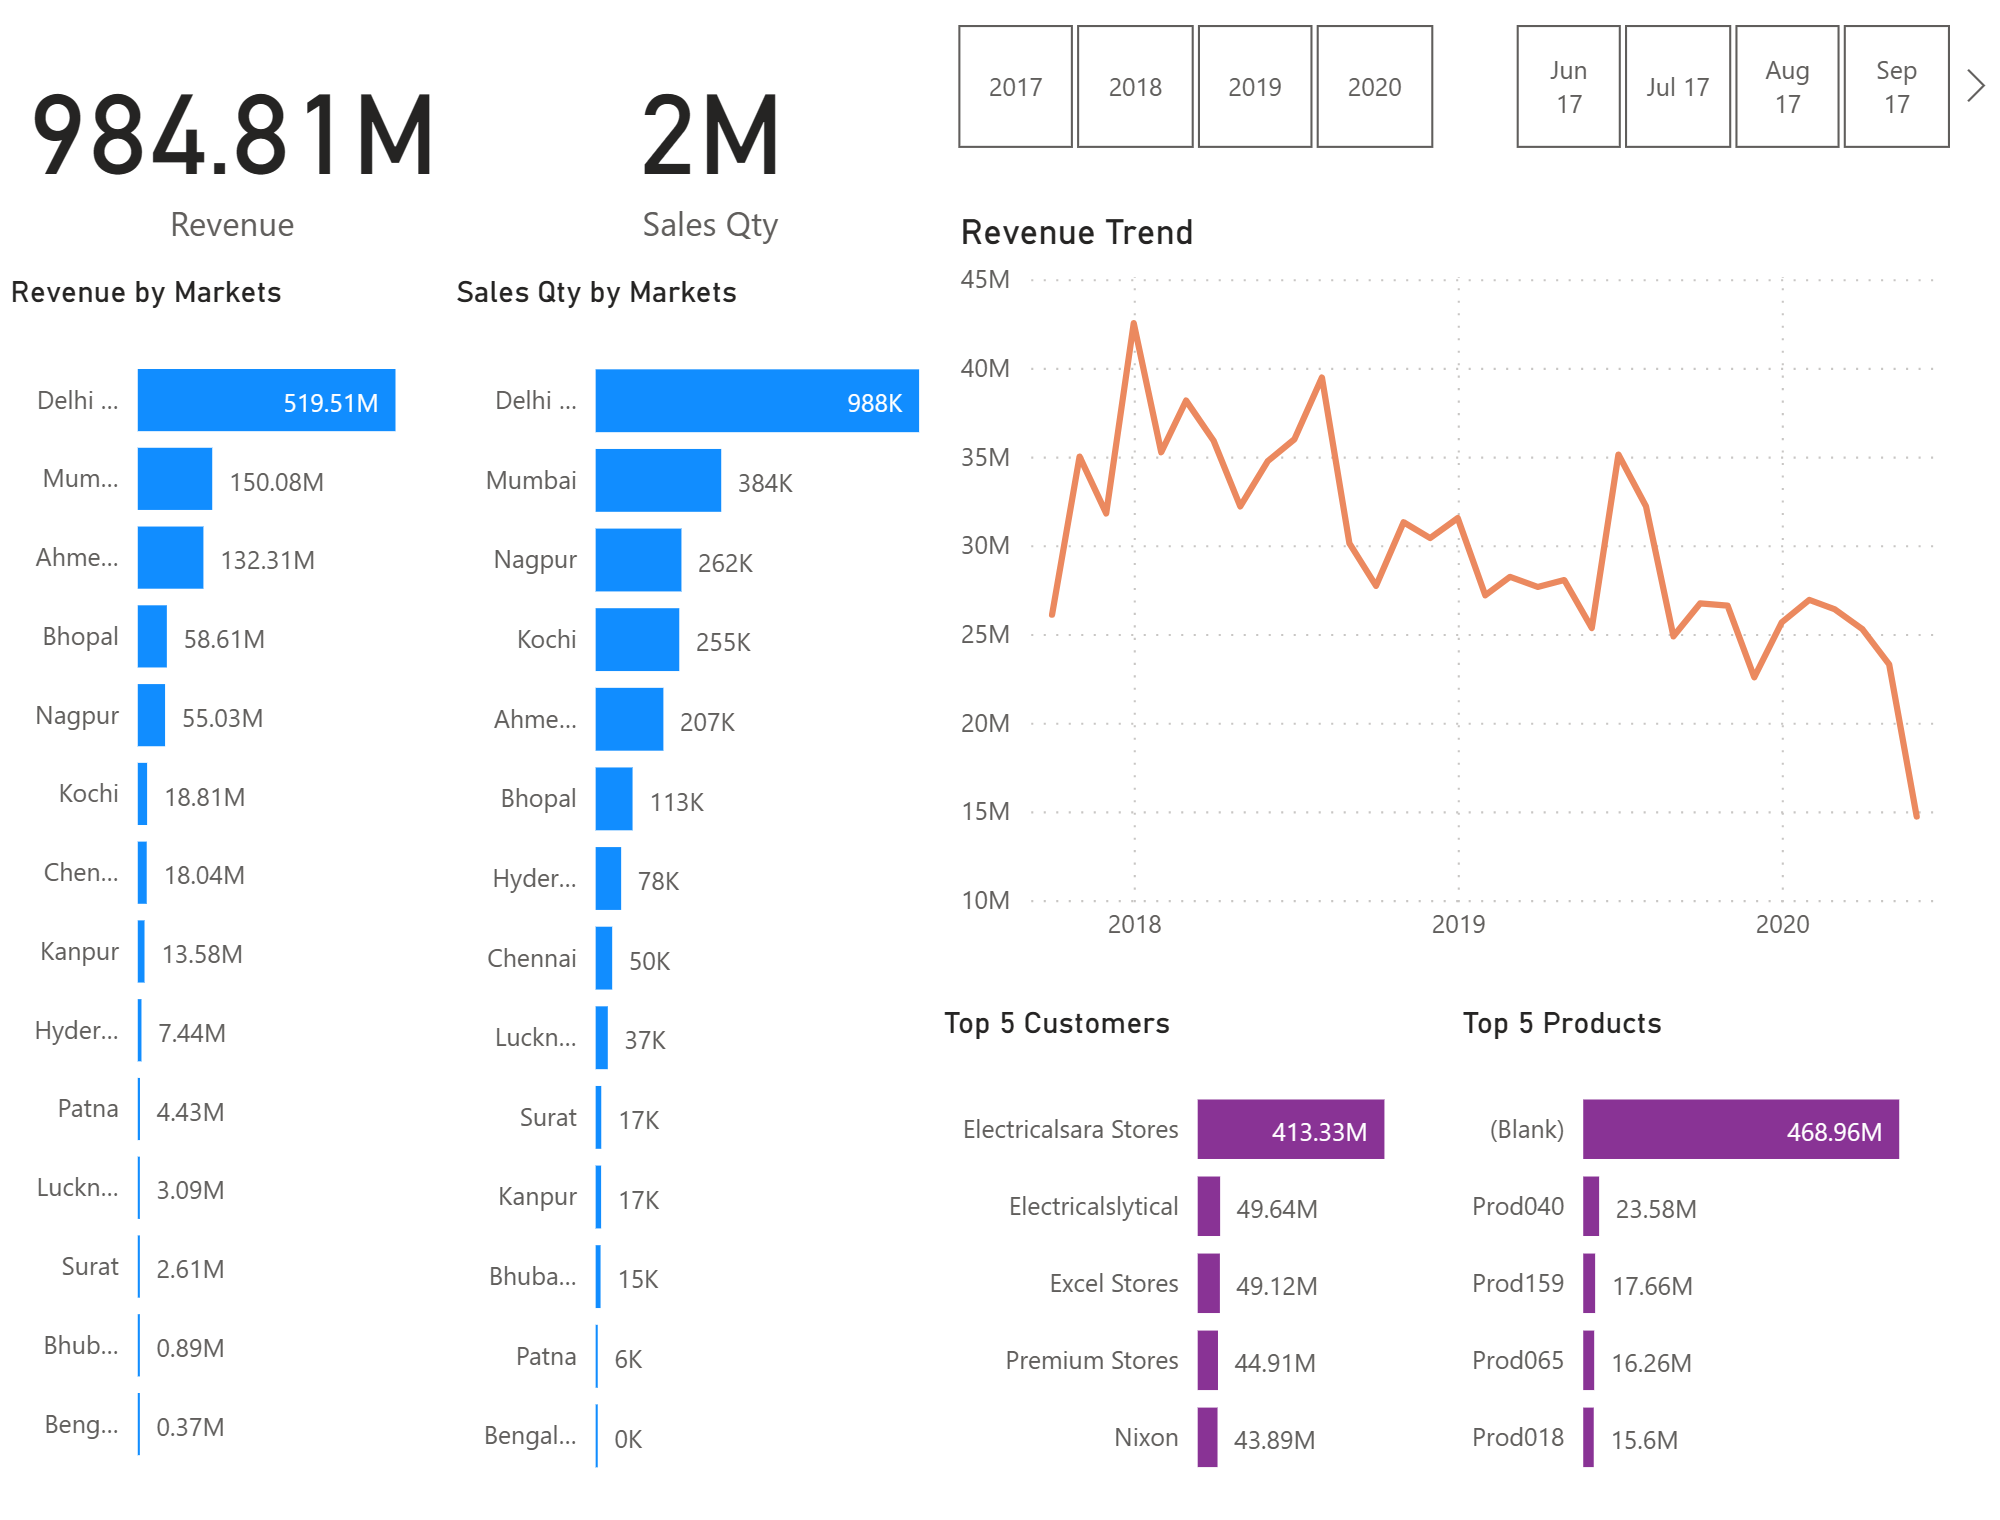

Layout of this report page (visuals, bound fields, positions):
{"tool":"powerbi","page":{"name":"Page 1","canvas":[960,720],"ordinal":0},"visuals":[{"type":"card","fields":{"Values":["BaseMeasures.Revenue"]},"box":[0,0,223.5,127.1],"z":0},{"type":"card","fields":{"Values":["BaseMeasures.Sales Qty"]},"box":[223.5,0,236.1,127.1],"z":1000},{"type":"barChart","title":"Revenue by Markets","fields":{"Category":["sales markets.markets_name"],"Y":["BaseMeasures.Revenue"]},"box":[0,127.1,213.6,586.6],"z":2000},{"type":"barChart","title":"Sales Qty by Markets","fields":{"Category":["sales markets.markets_name"],"Y":["BaseMeasures.Sales Qty"]},"box":[213.6,127.1,234.3,592.9],"z":3000},{"type":"slicer","fields":{"Values":["sales date.cy_date"]},"box":[702,0,257.7,73],"z":4000},{"type":"slicer","fields":{"Values":["sales date.year"]},"box":[434.3,0,277.5,73],"z":5000},{"type":"barChart","title":"Top 5 Customers","fields":{"Category":["sales customers.custmer_name"],"Y":["BaseMeasures.Revenue"]},"box":[447.9,477.6,262.2,242.4],"z":5001},{"type":"barChart","title":"Top 5 Products","fields":{"Category":["sales products.product_code"],"Y":["BaseMeasures.Revenue"]},"box":[697.5,477.6,262.2,242.4],"z":5002},{"type":"lineChart","title":"Revenue Trend","fields":{"Y":["BaseMeasures.Revenue"],"Category":["sales date.cy_date"]},"box":[456,96.4,482.1,361.4],"z":5003}]}

Visuals, with their boxes in screenshot pixels (x1, y1, x2, y2), scaled from the page's 960x720 canvas onto the 2000x1520 screenshot:
card - BaseMeasures.Revenue: BBox(0, 0, 466, 268)
card - BaseMeasures.Sales Qty: BBox(466, 0, 958, 268)
"Revenue by Markets" barChart: BBox(0, 268, 445, 1507)
"Sales Qty by Markets" barChart: BBox(445, 268, 933, 1519)
slicer - sales date.cy_date: BBox(1462, 0, 1999, 154)
slicer - sales date.year: BBox(905, 0, 1483, 154)
"Top 5 Customers" barChart: BBox(933, 1008, 1479, 1519)
"Top 5 Products" barChart: BBox(1453, 1008, 1999, 1519)
"Revenue Trend" lineChart: BBox(950, 204, 1954, 966)
